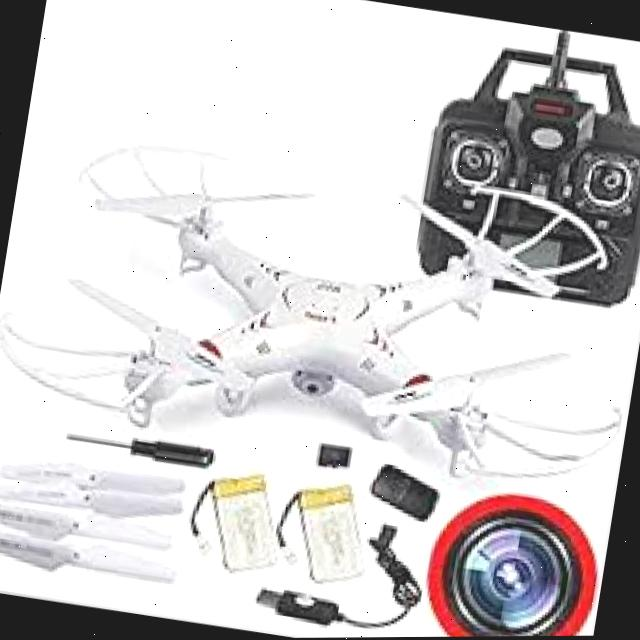drone: (5, 112, 637, 526)
